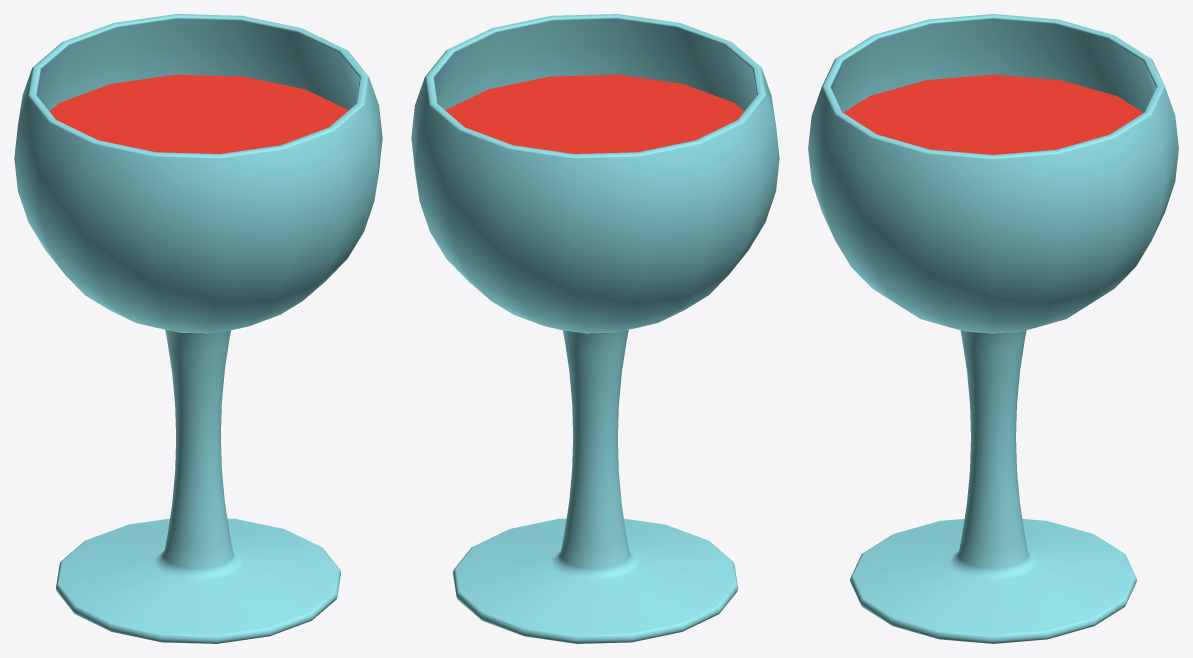
File: City_16_Glass_of_Wine_1.glb
3 renders of one model, left to right at view 1: azimuth 30°, elevation 25°; view 2: azimuth 150°, elevation 25°; view 3: azimuth 270°, elevation 25°, orthographic.
Visible parts, largest first — view 1: City_16_Glass_of_Wine_1; view 2: City_16_Glass_of_Wine_1; view 3: City_16_Glass_of_Wine_1.
Part boxes in pixels (bbox=[...]): City_16_Glass_of_Wine_1: bbox=[14, 14, 382, 643]; City_16_Glass_of_Wine_1: bbox=[411, 14, 779, 643]; City_16_Glass_of_Wine_1: bbox=[808, 14, 1178, 643].
Size of the model in its own units: 0.1491 by 0.2215 by 0.1491.
Materials: 1 (1 with a texture image).
